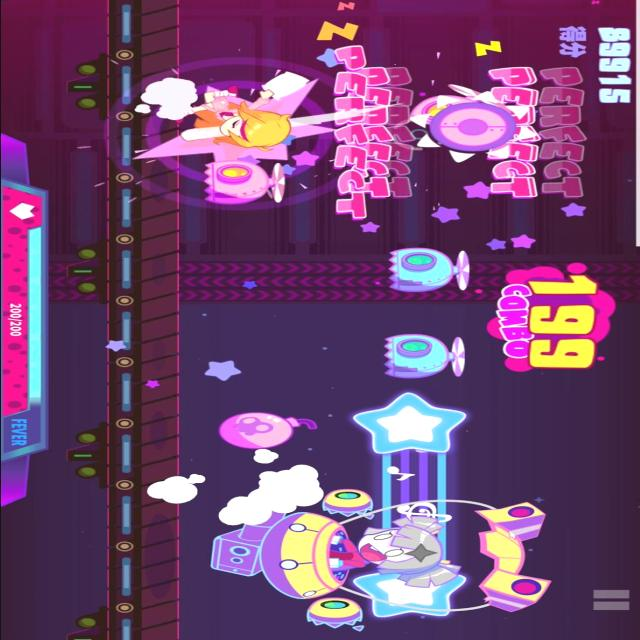ci: (410, 96, 532, 162)
hold: (348, 392, 468, 624)
jiqiqiu: (203, 158, 295, 206), (379, 248, 471, 296), (380, 334, 471, 382)
qiangboss: (203, 493, 556, 635)
tang: (215, 414, 317, 450)
